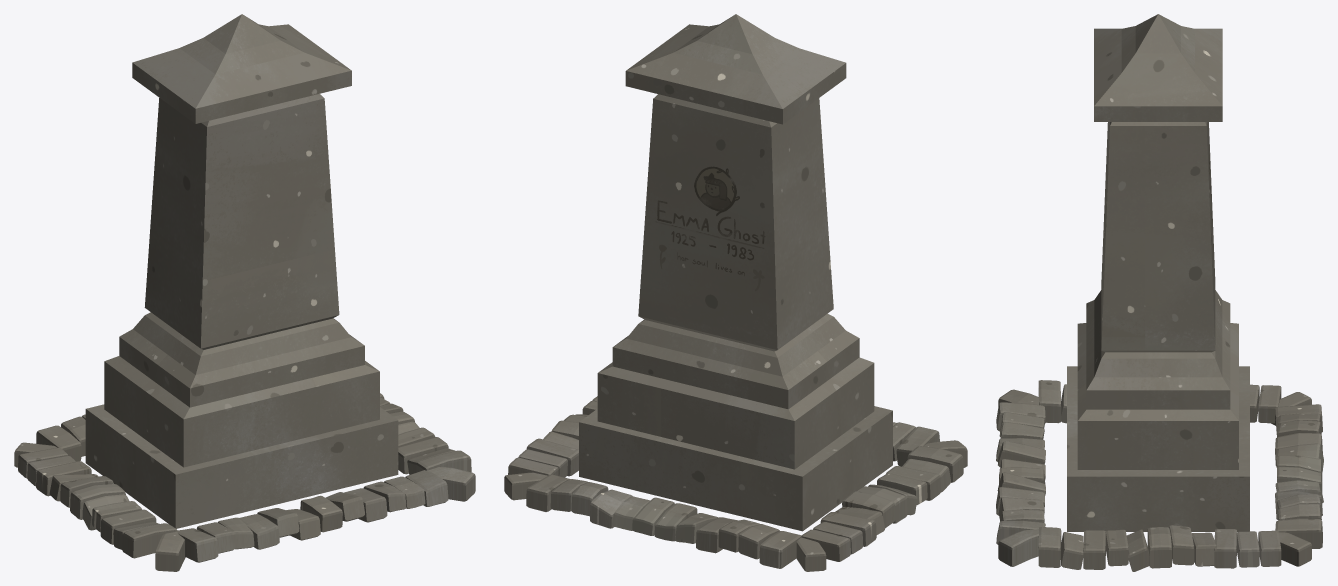
The model's file is Grave2.fbx.
3 renders of one model, left to right at view 1: azimuth 30°, elevation 25°; view 2: azimuth 150°, elevation 25°; view 3: azimuth 270°, elevation 25°, orthographic.
Parts seen in each view (by area): view 1: Grave_2, Cube.219; view 2: Grave_2, Cube.219; view 3: Grave_2, Cube.219.
Boxes of the visible parts, x1,y1,x2,y2 form: Grave_2: (85, 14, 398, 528); Cube.219: (14, 393, 475, 571); Grave_2: (579, 14, 892, 531); Cube.219: (504, 396, 967, 571); Grave_2: (1067, 14, 1249, 531); Cube.219: (996, 380, 1323, 571).
Size of the model in its own units: 324 by 430 by 267.
Materials: 1 (1 with a texture image).
